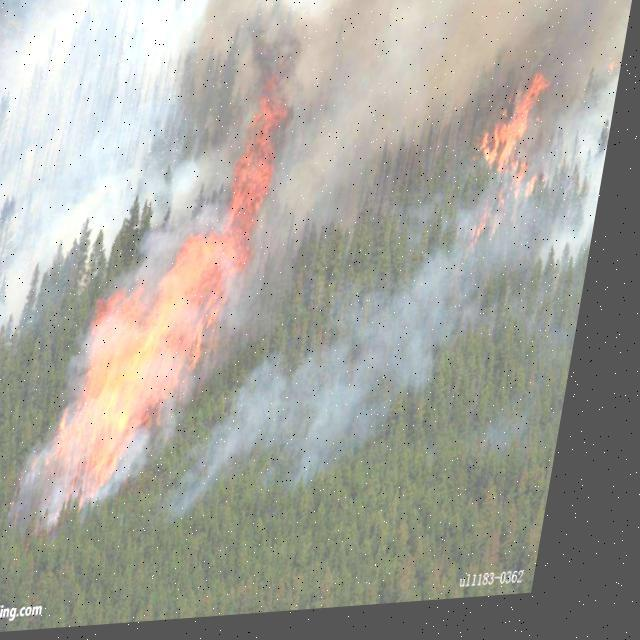Fire: (51, 74, 302, 498), (472, 74, 574, 245)
